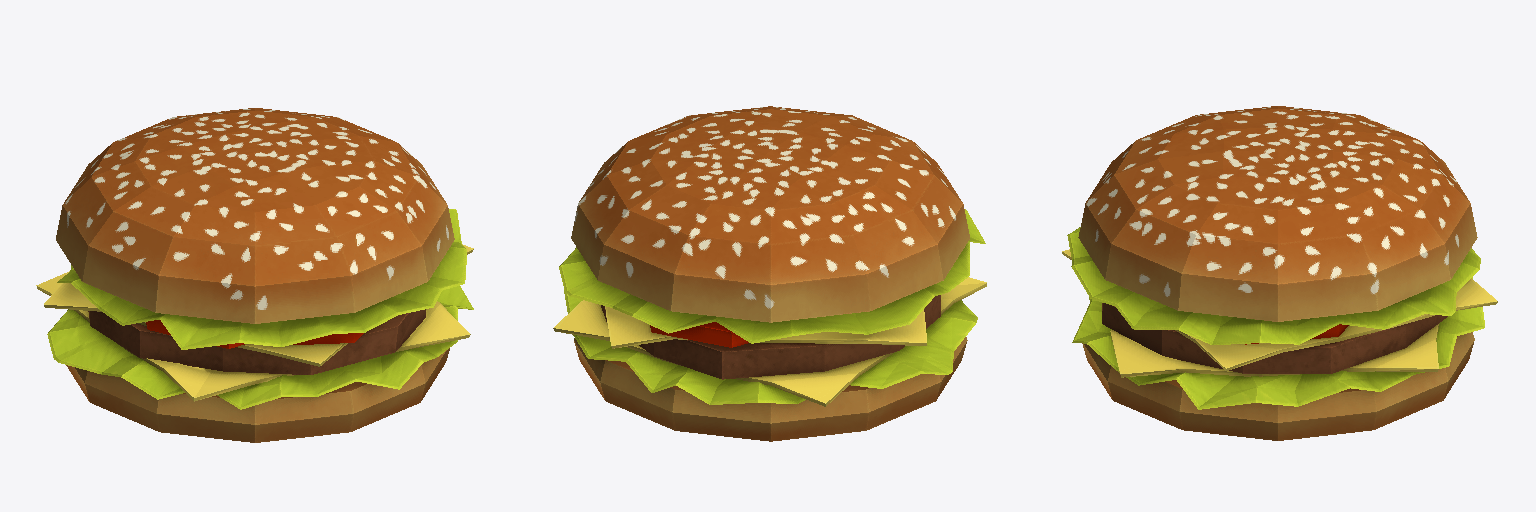
The picture shows the model from 3 angles: view 1: azimuth 30°, elevation 25°; view 2: azimuth 150°, elevation 25°; view 3: azimuth 270°, elevation 25°; orthographic projection.
Visible parts, largest first — view 1: Hamburguer_Mesh; view 2: Hamburguer_Mesh; view 3: Hamburguer_Mesh.
Part boxes in pixels (left/top/right/bottom): Hamburguer_Mesh: left=36, top=108, right=473, bottom=442; Hamburguer_Mesh: left=553, top=106, right=986, bottom=441; Hamburguer_Mesh: left=1062, top=106, right=1497, bottom=440.
Size of the model in its own units: 1.81 by 0.9523 by 1.79.
1 materials, 1 textured.